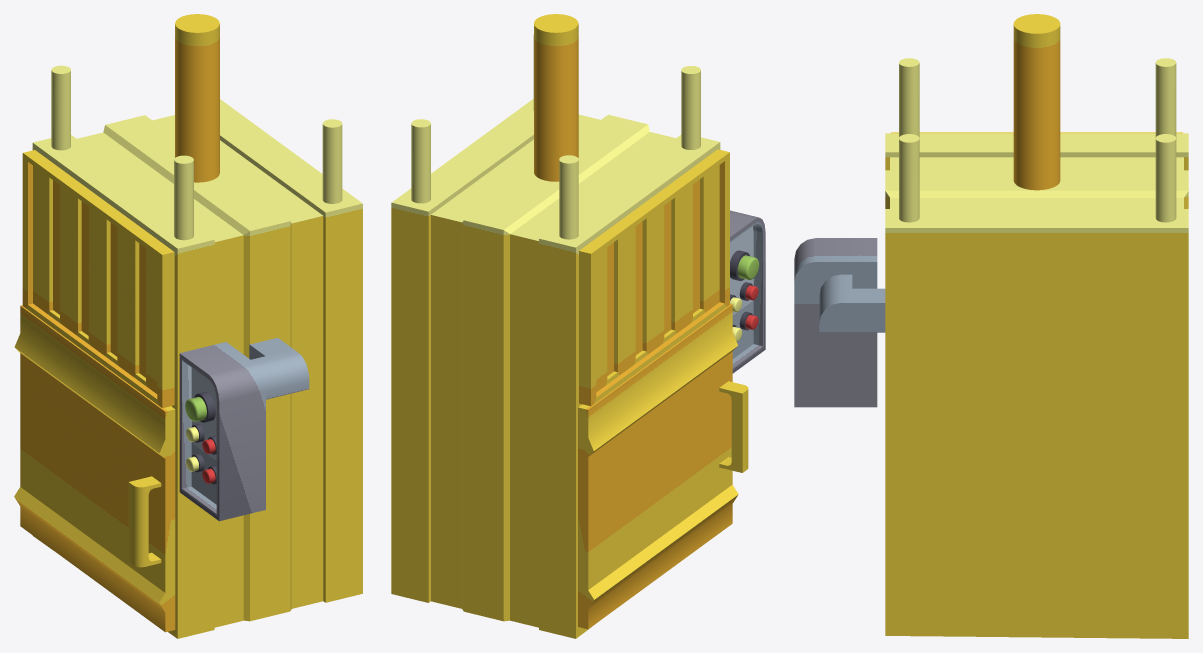
Rendered from maquinaFardo_Am.fbx.
3 views of the same model, side by side, from view 1: azimuth 30°, elevation 25°; view 2: azimuth 150°, elevation 25°; view 3: azimuth 270°, elevation 25° (orthographic). The views are drawn at different scales.
Visible parts, largest first — view 1: maquinaFardo_Am, puerta_Am, puerta_Am1, aplanadora_Am; view 2: maquinaFardo_Am, puerta_Am, puerta_Am1, aplanadora_Am; view 3: maquinaFardo_Am, aplanadora_Am.
Boxes of the visible parts, x1=… form: maquinaFardo_Am: x1=32, y1=65, x2=362, y2=638; puerta_Am: x1=14, y1=305, x2=175, y2=632; puerta_Am1: x1=22, y1=150, x2=174, y2=408; aplanadora_Am: x1=175, y1=14, x2=219, y2=182; maquinaFardo_Am: x1=391, y1=33, x2=765, y2=638; puerta_Am: x1=578, y1=303, x2=748, y2=629; puerta_Am1: x1=579, y1=149, x2=729, y2=406; aplanadora_Am: x1=534, y1=14, x2=578, y2=181; maquinaFardo_Am: x1=794, y1=58, x2=1188, y2=638; aplanadora_Am: x1=1013, y1=14, x2=1060, y2=190.
Bounding box in the file's own units: 251 × 589 × 371.
